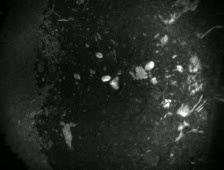corn: (142, 59, 155, 71), (70, 69, 82, 81), (109, 79, 120, 92), (108, 74, 121, 85), (99, 73, 113, 83), (92, 49, 105, 59)
